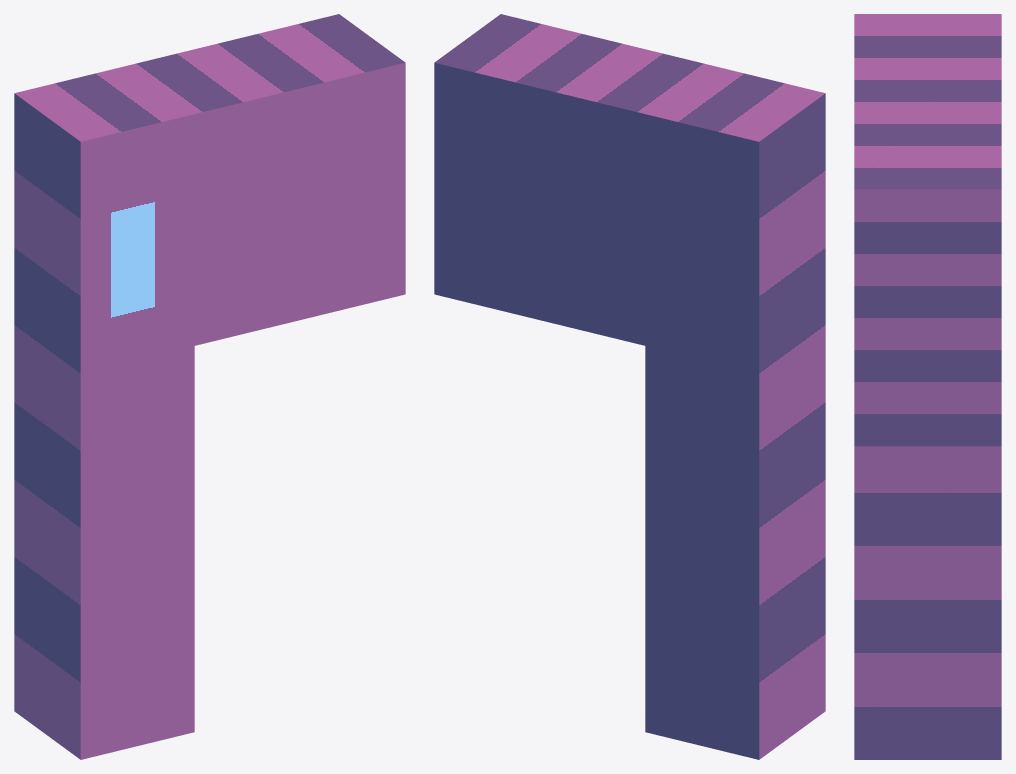
3 renders of one model, left to right at view 1: azimuth 30°, elevation 25°; view 2: azimuth 150°, elevation 25°; view 3: azimuth 270°, elevation 25°, orthographic. The views are drawn at different scales.
Size of the model in its own units: 1.1 by 2 by 0.39.
1 material, 1 textured.
